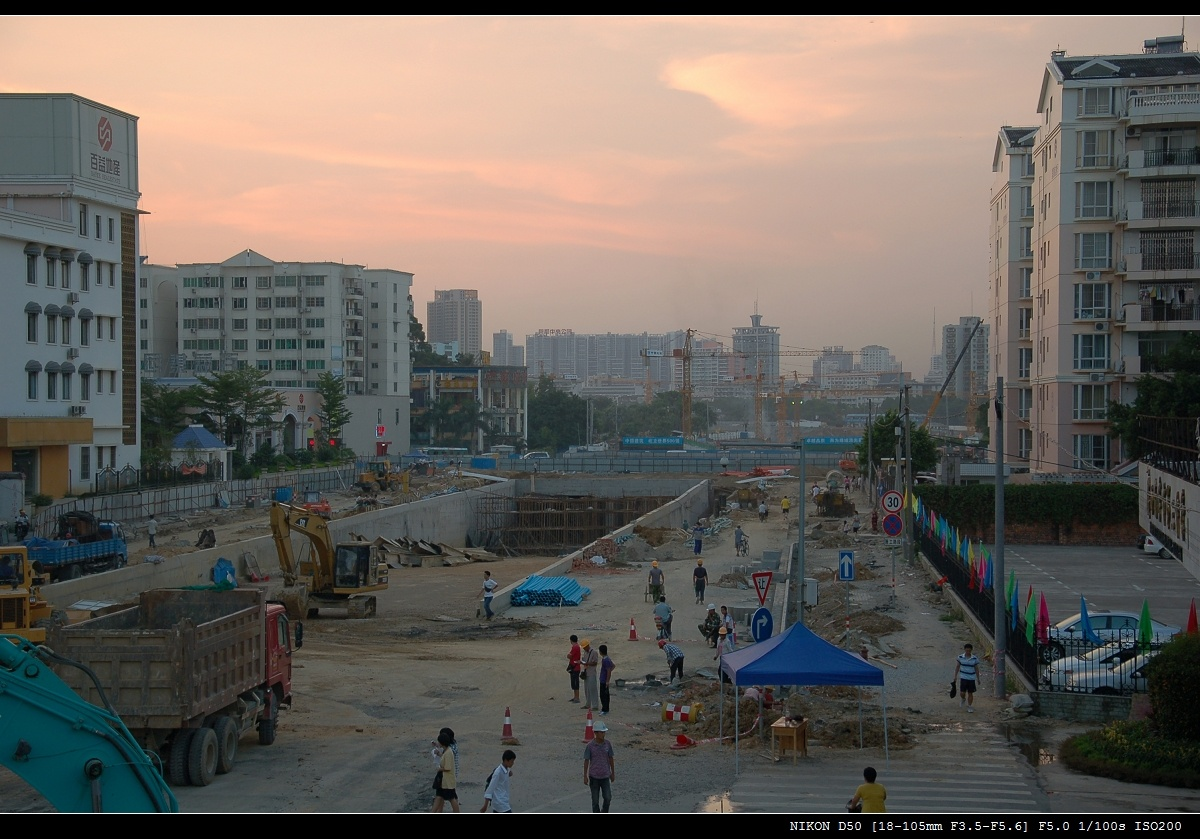none: (860, 766, 878, 785), (500, 748, 517, 768), (435, 731, 450, 749), (962, 643, 974, 656), (598, 643, 609, 657), (568, 633, 579, 645), (482, 569, 491, 580), (720, 604, 728, 615), (659, 595, 666, 604)
red: (657, 638, 667, 649)
white: (592, 719, 608, 738), (707, 602, 716, 613)
yellow: (579, 637, 591, 651), (718, 626, 727, 638), (696, 559, 704, 568), (651, 560, 659, 568)
